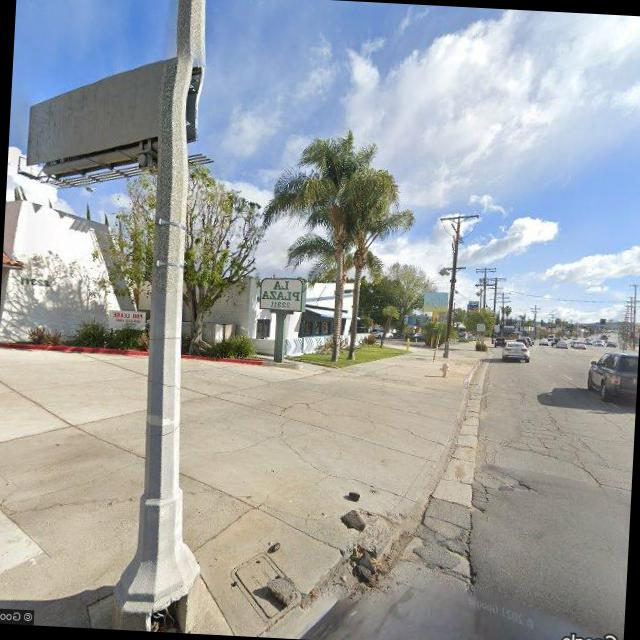crack: (484, 400, 636, 496)
